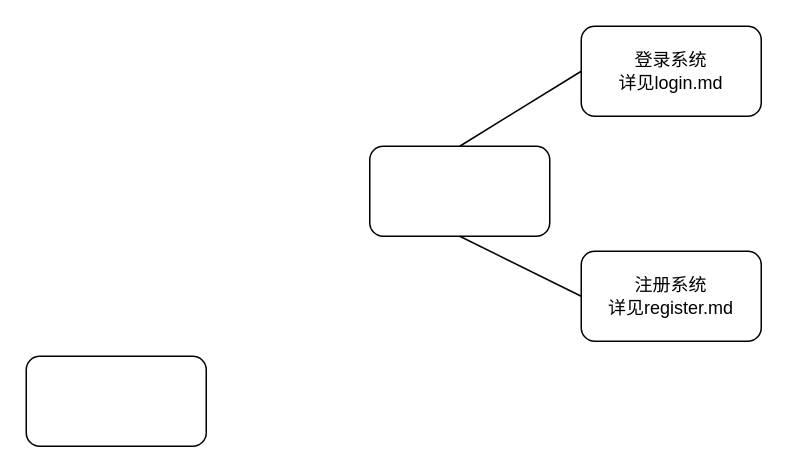
Image size: 788x473. Some labels were removed from this diagram. The centre of each missing label's shape, as x and y in pixels:
"Cser_Forum" goes at point 115,400.
"登录/注册系统" goes at point 459,190.
